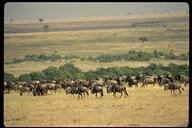antelope: (163, 81, 185, 96), (107, 84, 129, 99), (90, 84, 105, 101), (72, 85, 88, 100), (141, 77, 156, 88)
grass: (6, 101, 185, 124)
